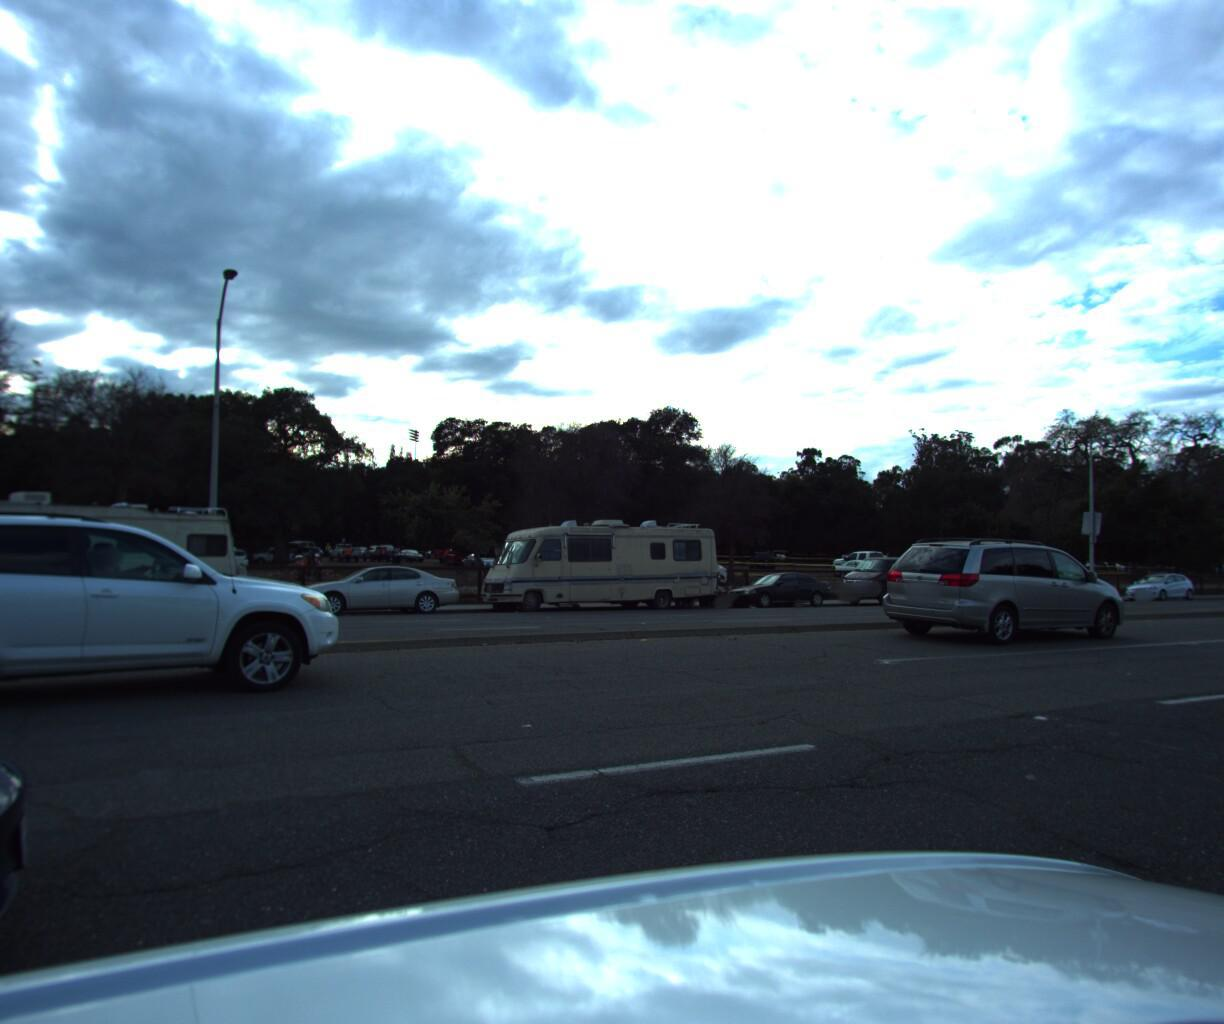car: (0, 498, 365, 741), (867, 526, 1135, 642), (278, 560, 465, 619), (832, 551, 952, 606), (714, 566, 838, 605), (1115, 566, 1194, 598)
other_vehicle: (0, 479, 257, 631), (471, 506, 724, 618)
